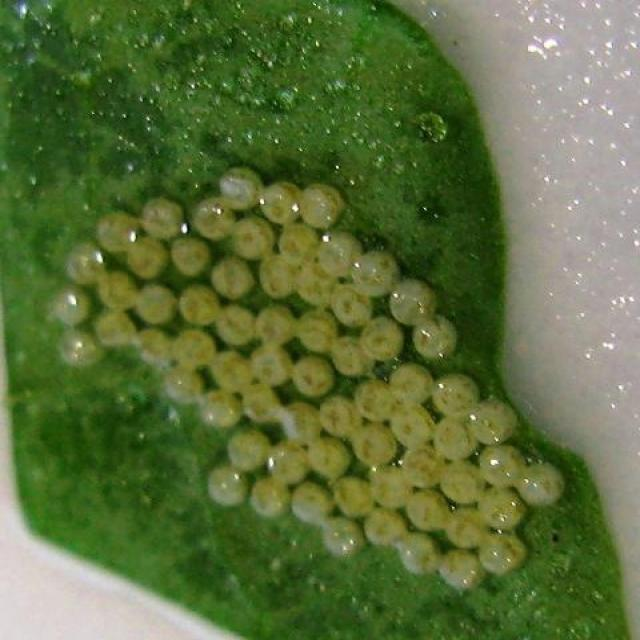army worm: (42, 160, 581, 590)
